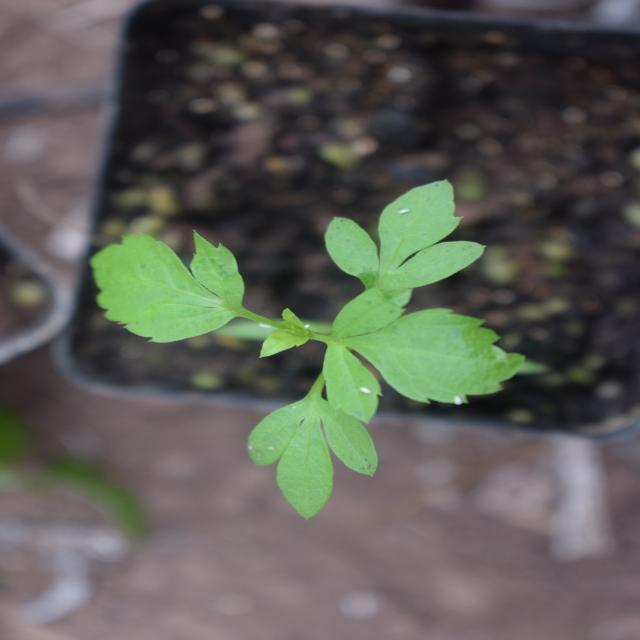Bidens pilosa: (131, 90, 461, 510)
